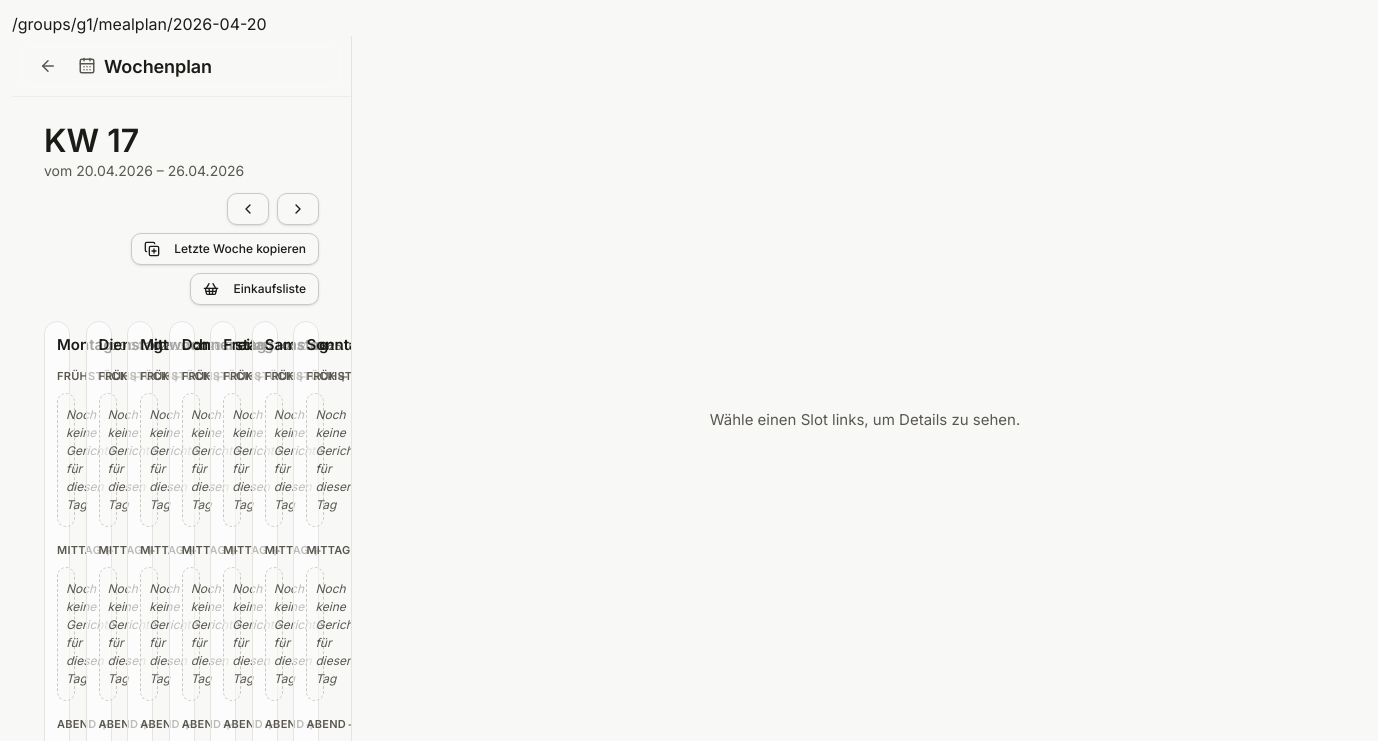
Test: <MealPlanPage /> › navigates +7 days when "Nächste Woche" is clicked
This screenshot has width=1378, height=741.
expect the heading "KW 17" is shown: met, box top-left (44, 121), bottom-right (139, 160)
Click the button named "Nächste Woche". click: click(298, 209)
box: top-left (277, 193), bottom-right (319, 225)
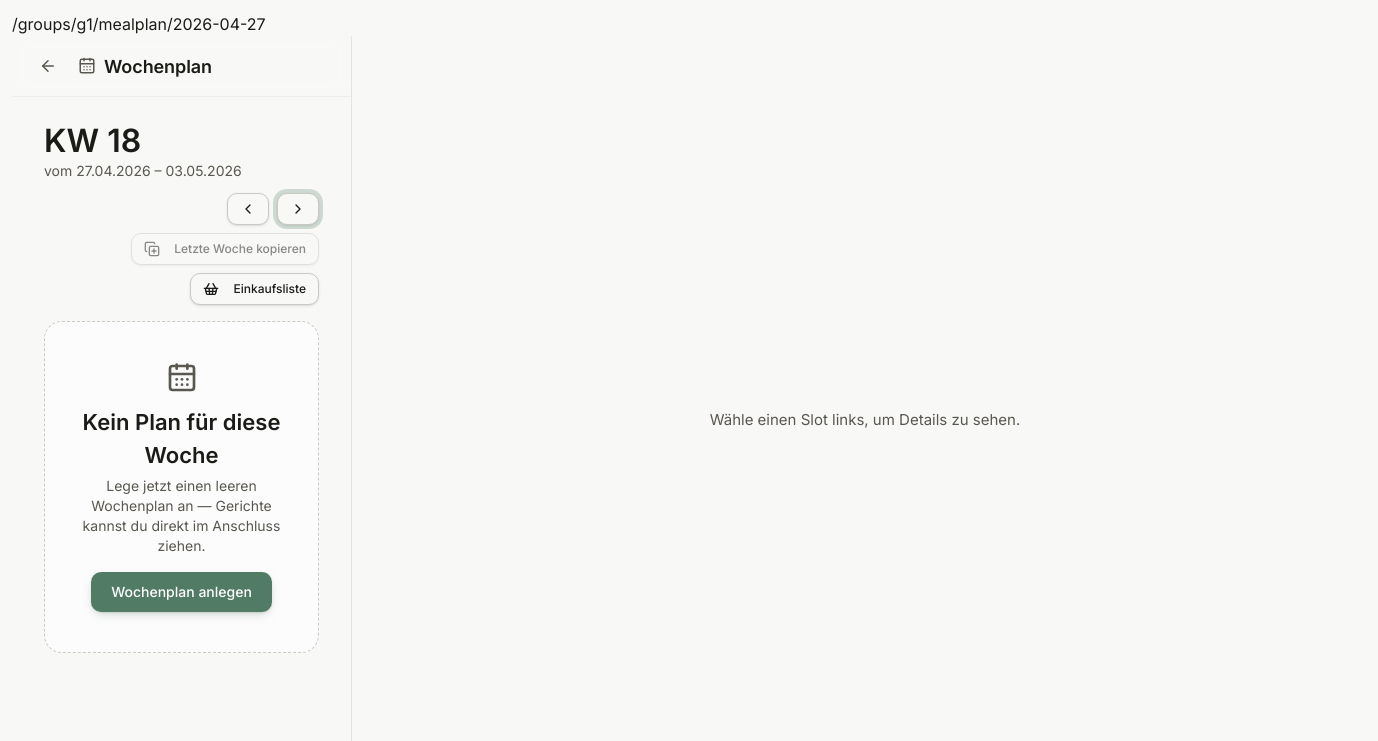
expect the text with test id "current-path" reads "/groups/g1/mealplan/2026-04-27": met, box top-left (12, 14), bottom-right (266, 34)
